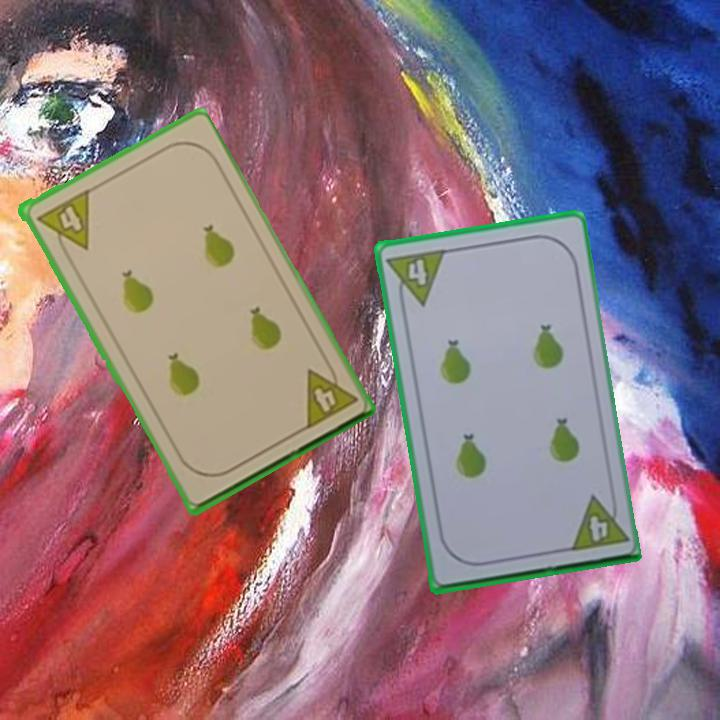4p: (31, 186, 92, 261), (301, 355, 360, 432), (383, 245, 448, 311), (565, 490, 629, 554)
